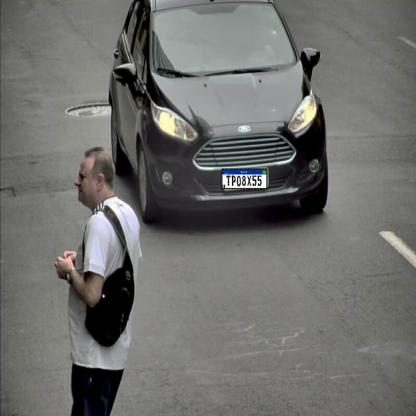PlacaM: (221, 168, 268, 190)
